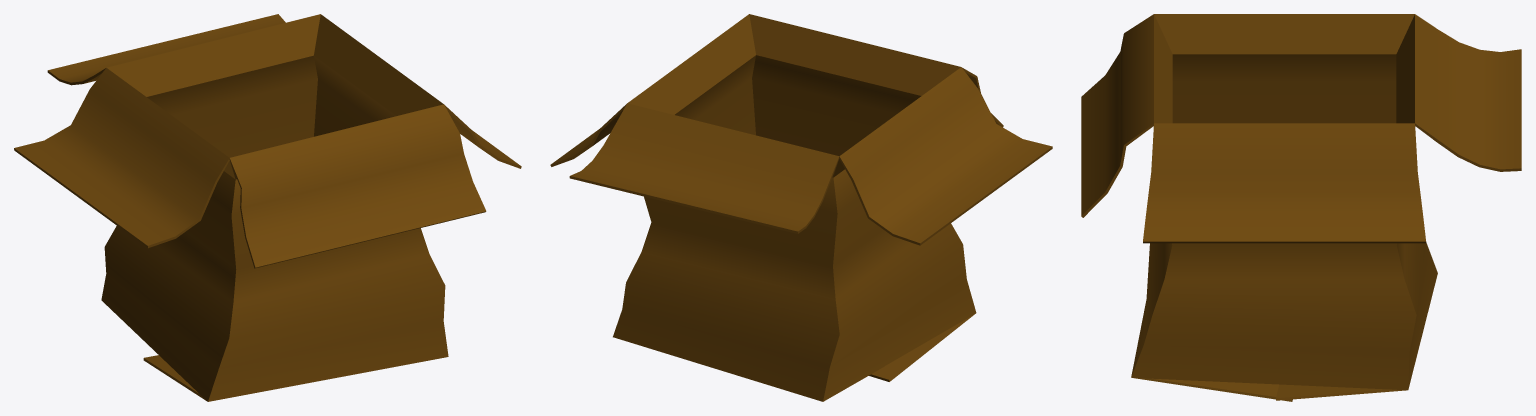
The model's file is Caja_04.fbx.
The picture shows the model from 3 angles, left to right: view 1: azimuth 30°, elevation 25°; view 2: azimuth 150°, elevation 25°; view 3: azimuth 270°, elevation 25°; orthographic projection. The views are drawn at different scales.
Parts seen in each view (by area): view 1: Caja_04; view 2: Caja_04; view 3: Caja_04.
Part boxes in pixels (x1=…): Caja_04: x1=14, y1=14, x2=521, y2=401; Caja_04: x1=550, y1=14, x2=1052, y2=401; Caja_04: x1=1081, y1=14, x2=1521, y2=401.
Bounding box in the file's own units: 128 × 85.38 × 124.
